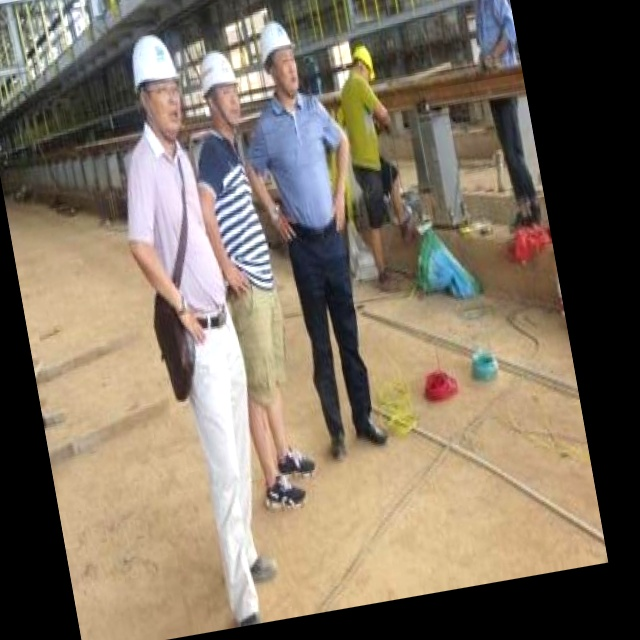Sin_Chaleco: (122, 133, 221, 320), (258, 88, 350, 237)
